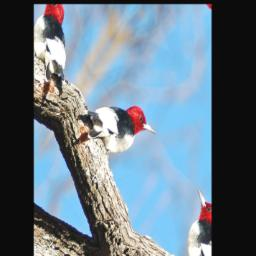Woodpecker: (77, 71, 159, 188)
